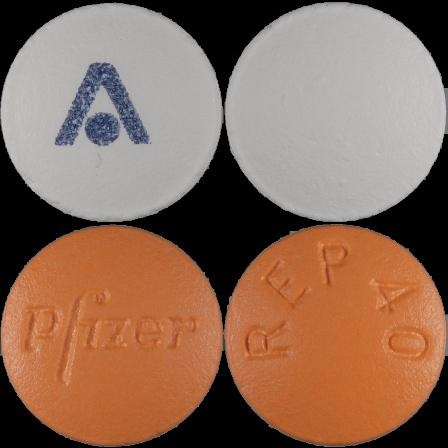54868-5527: (0, 0, 224, 224)
